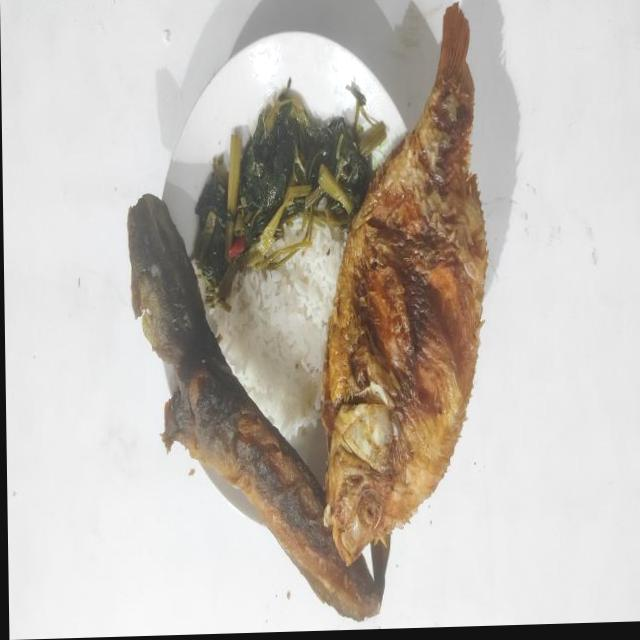ikan_mujair: (322, 3, 488, 564)
nasi_putih: (205, 226, 348, 442)
tumis_kangkung: (192, 78, 386, 311)
